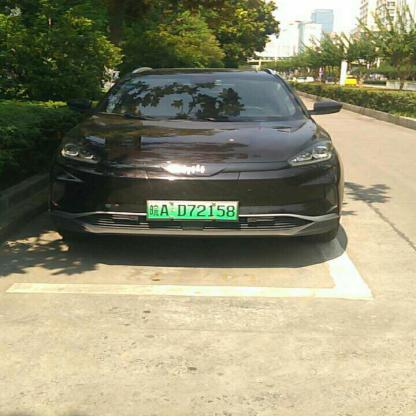lp: (146, 200, 237, 220)
